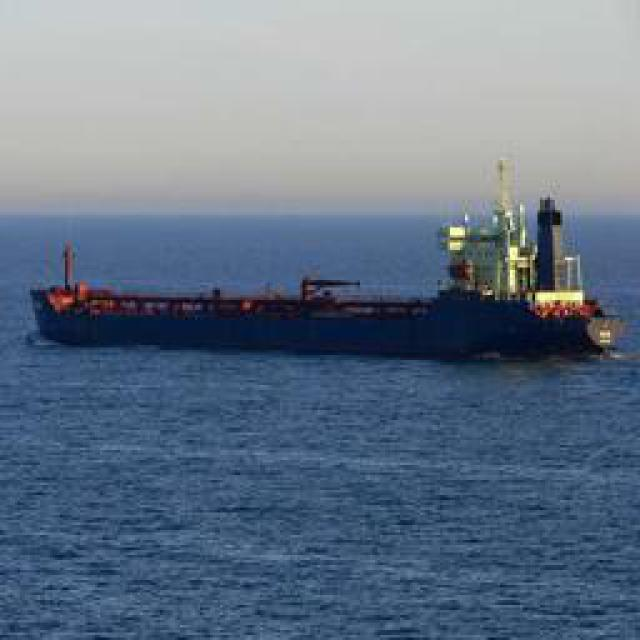Ship: (17, 195, 634, 370)
